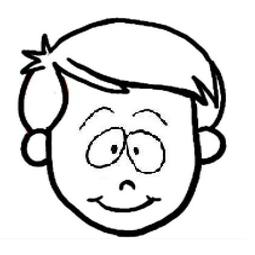ear: (193, 125, 234, 165), (15, 127, 52, 171)
eye: (125, 126, 171, 175), (83, 122, 126, 170)
eyebrow: (77, 103, 117, 131), (129, 103, 173, 127)
mouth: (84, 193, 164, 215)
nose: (117, 175, 143, 192)
